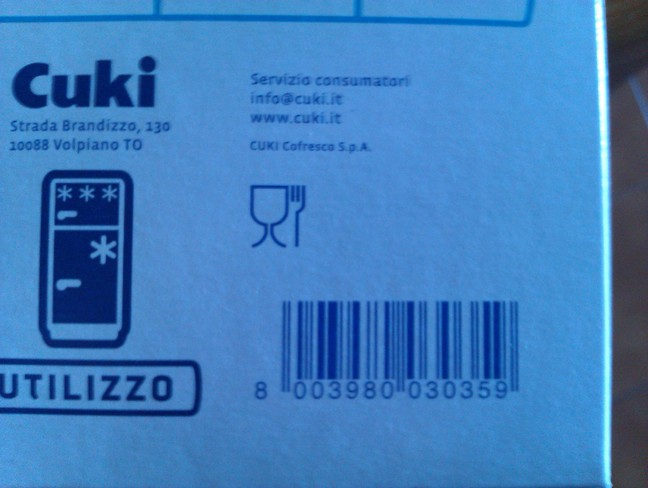detection: (236, 286, 544, 415)
